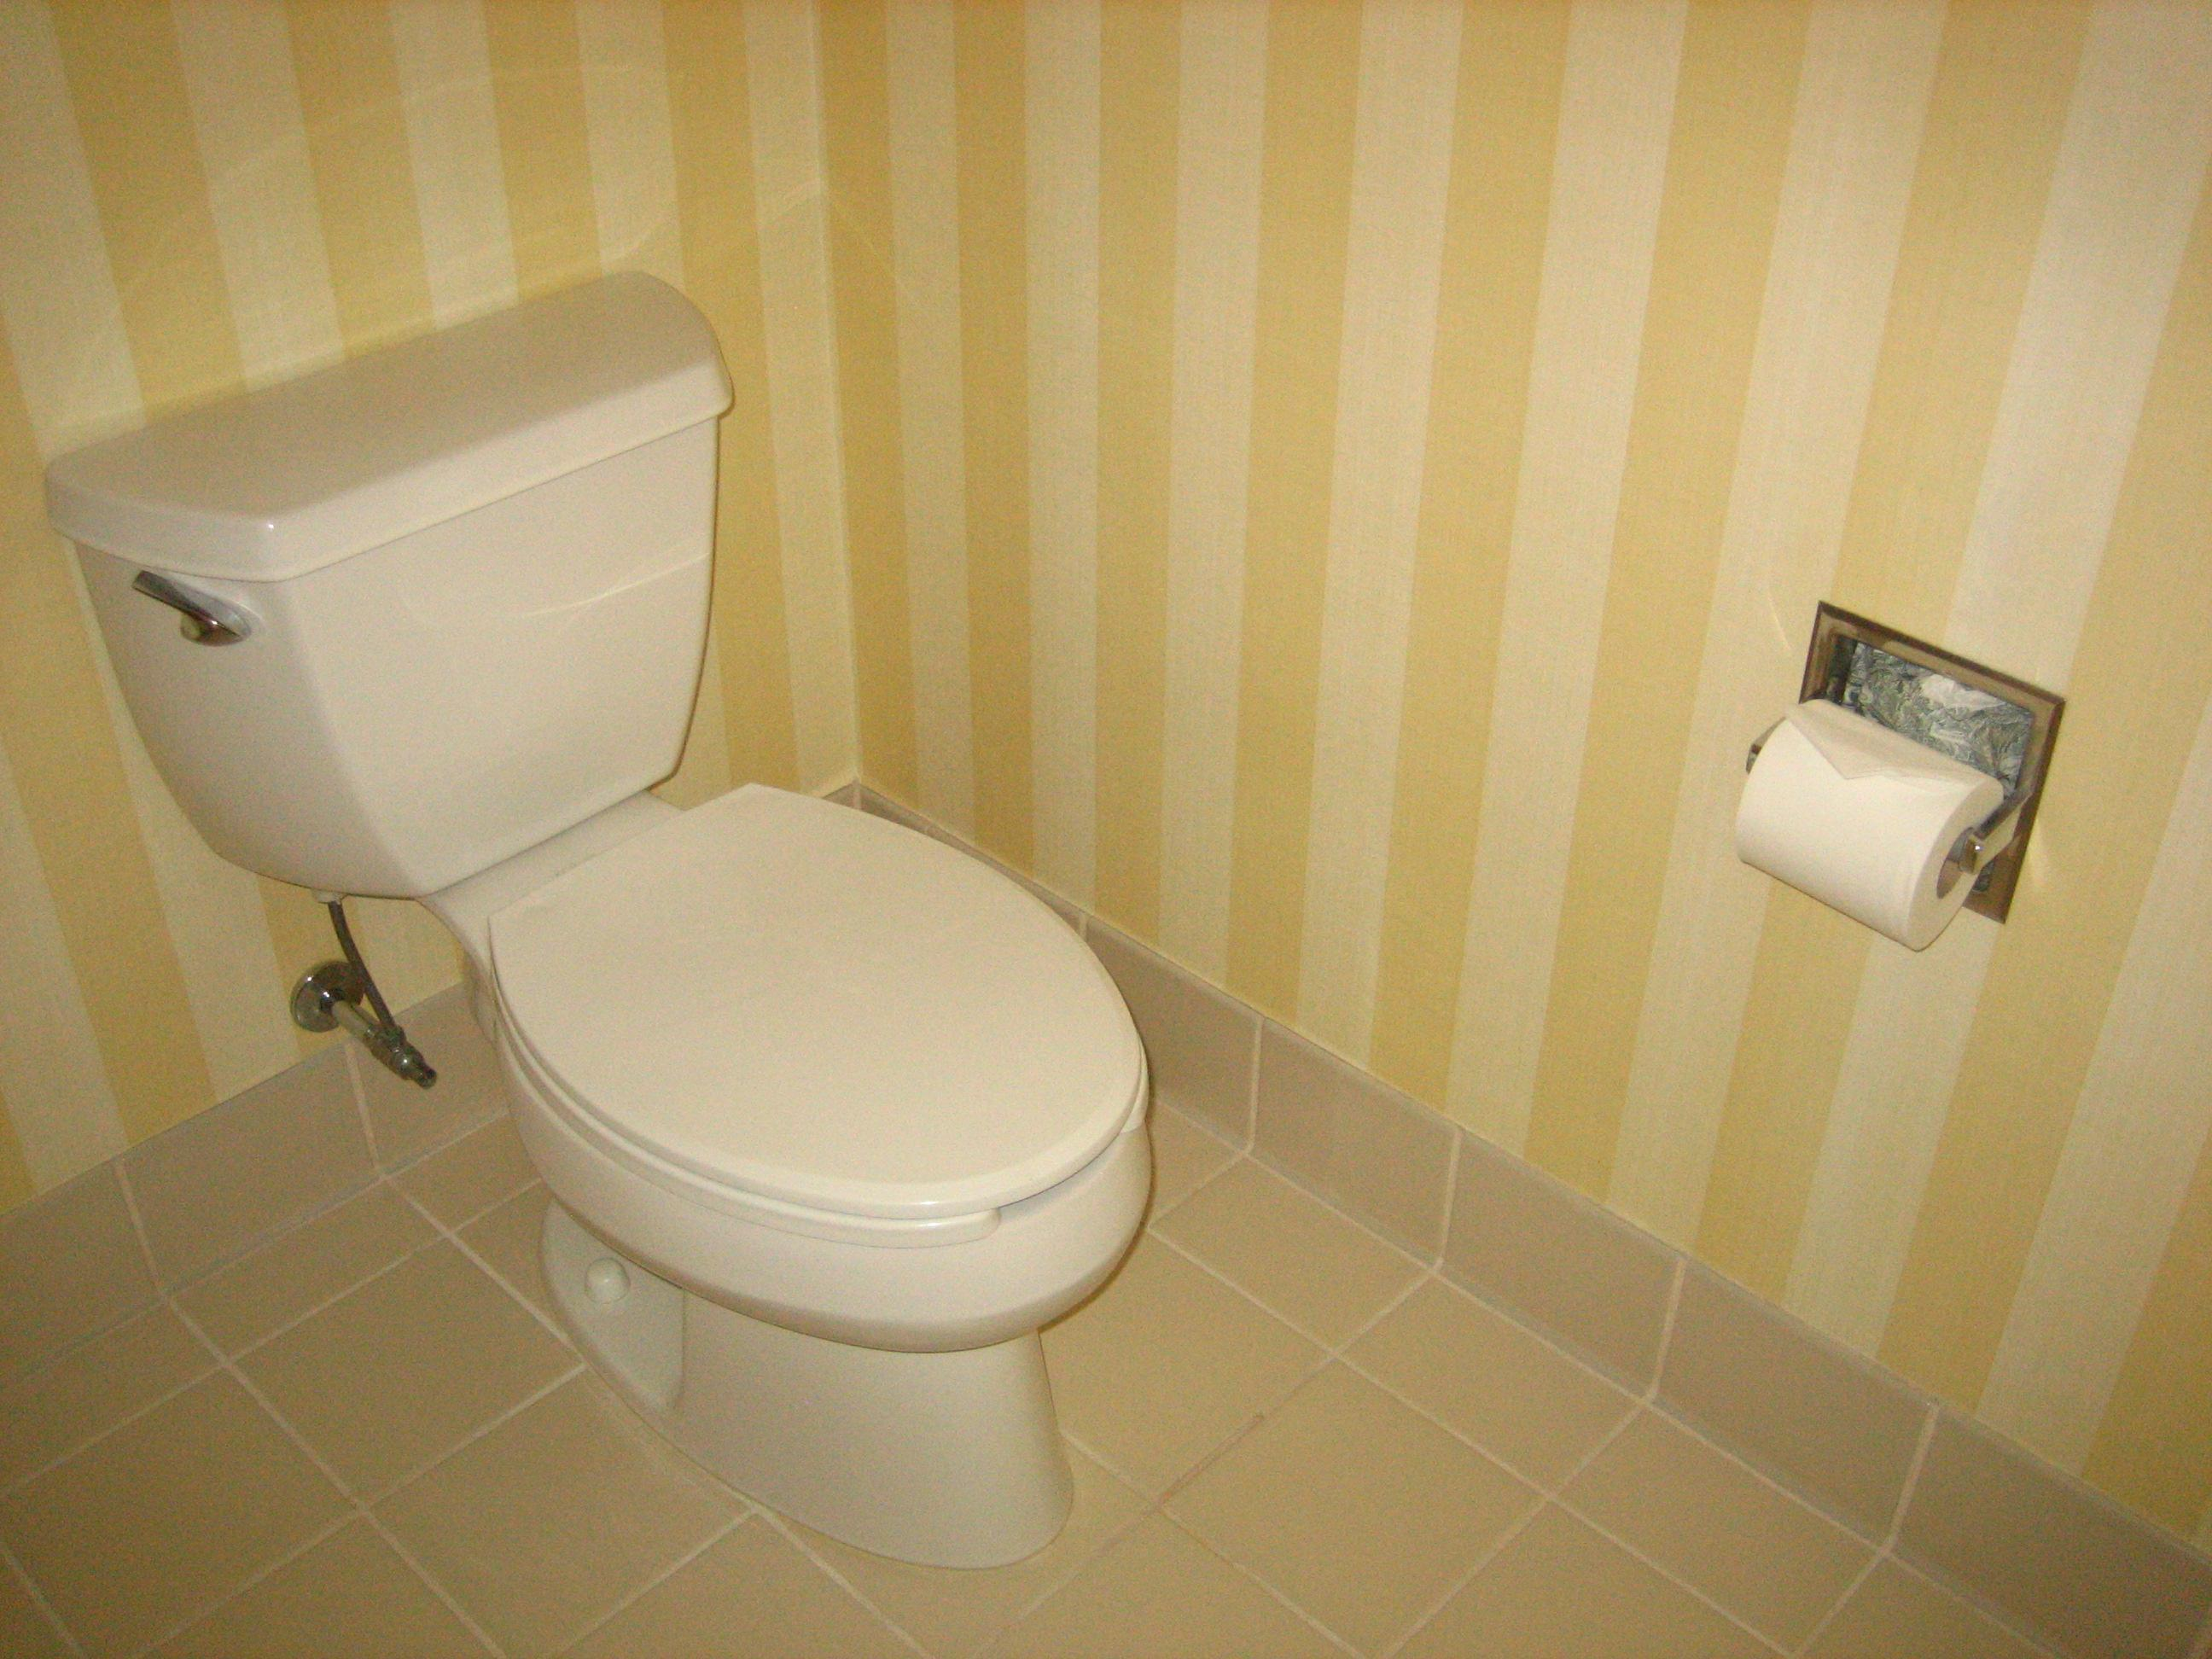Sanitario: (71, 371, 1299, 1626)
